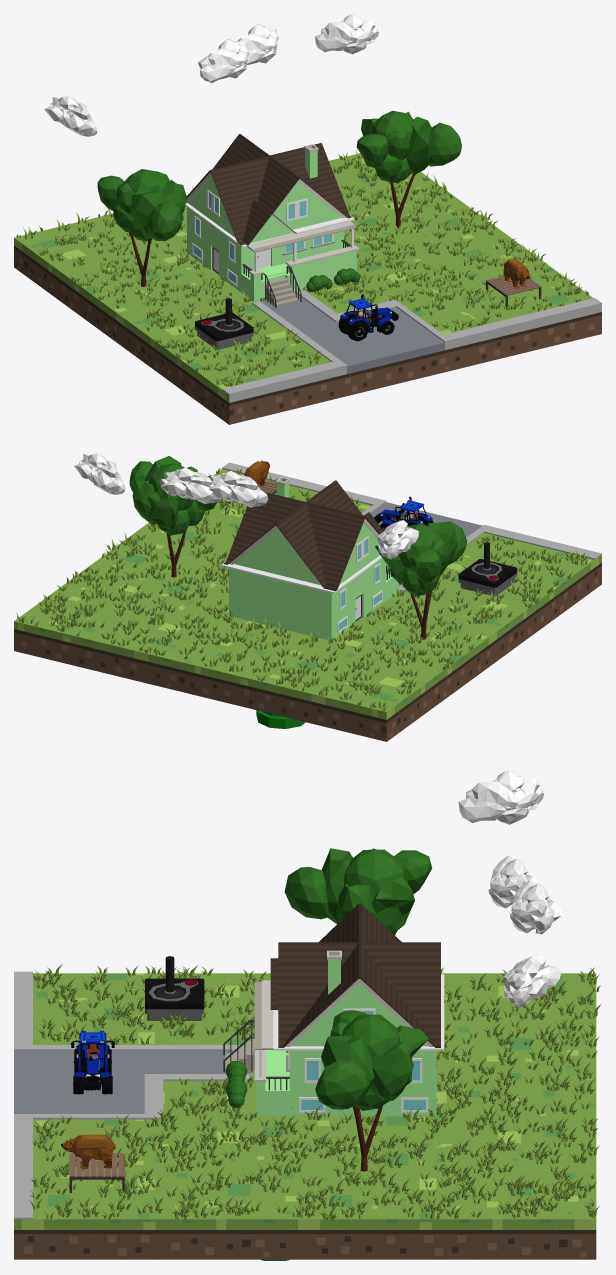
3 renders of one model, top to bottom at view 1: azimuth 30°, elevation 25°; view 2: azimuth 150°, elevation 25°; view 3: azimuth 270°, elevation 25°, orthographic. The views are drawn at different scales.
Visible parts, largest first — view 1: Cube.006, Cube.274, Circle.012_Grass_0.192, Cube.007, tree, tree.001, OBJRANDOM_JOYSTICK, VEHICLES_TRACTOR, Cube.009, ANIMAL_OSO; view 2: Cube.006, Cube.274, Circle.012_Grass_0.192, Cube.007, tree.001, tree, OBJRANDOM_JOYSTICK, VEHICLES_TRACTOR, UNDERGROUND_PIPES, ANIMAL_OSO; view 3: Cube.006, Circle.012_Grass_0.192, Cube.274, tree, Cube.007, tree.001, OBJRANDOM_JOYSTICK, VEHICLES_TRACTOR, Cube.009, ANIMAL_OSO.
Part boxes in pixels (x1,y1,x2,y2): Cube.006: [14, 153, 601, 424]; Cube.274: [185, 134, 359, 308]; Circle.012_Grass_0.192: [16, 150, 588, 386]; Cube.007: [44, 14, 378, 136]; tree: [356, 110, 461, 228]; tree.001: [97, 169, 186, 286]; OBJRANDOM_JOYSTICK: [195, 298, 253, 349]; VEHICLES_TRACTOR: [338, 294, 398, 341]; Cube.009: [486, 276, 541, 306]; ANIMAL_OSO: [503, 259, 530, 288]; Cube.006: [14, 462, 601, 741]; Cube.274: [221, 477, 398, 640]; Circle.012_Grass_0.192: [16, 468, 588, 711]; Cube.007: [74, 453, 418, 559]; tree.001: [375, 521, 467, 639]; tree: [129, 456, 216, 577]; OBJRANDOM_JOYSTICK: [458, 542, 517, 596]; VEHICLES_TRACTOR: [374, 496, 433, 530]; UNDERGROUND_PIPES: [256, 710, 305, 728]; ANIMAL_OSO: [244, 460, 269, 485]; Cube.006: [14, 971, 596, 1259]; Circle.012_Grass_0.192: [29, 964, 600, 1220]; Cube.274: [223, 903, 444, 1116]; tree: [315, 1010, 428, 1171]; Cube.007: [458, 770, 561, 1007]; tree.001: [284, 848, 432, 935]; OBJRANDOM_JOYSTICK: [145, 956, 204, 1020]; VEHICLES_TRACTOR: [71, 1031, 114, 1094]; Cube.009: [69, 1152, 124, 1192]; ANIMAL_OSO: [61, 1134, 115, 1168].
Bounding box in the file's own units: 4071 × 2759 × 4040.
37 materials, 3 textured.
